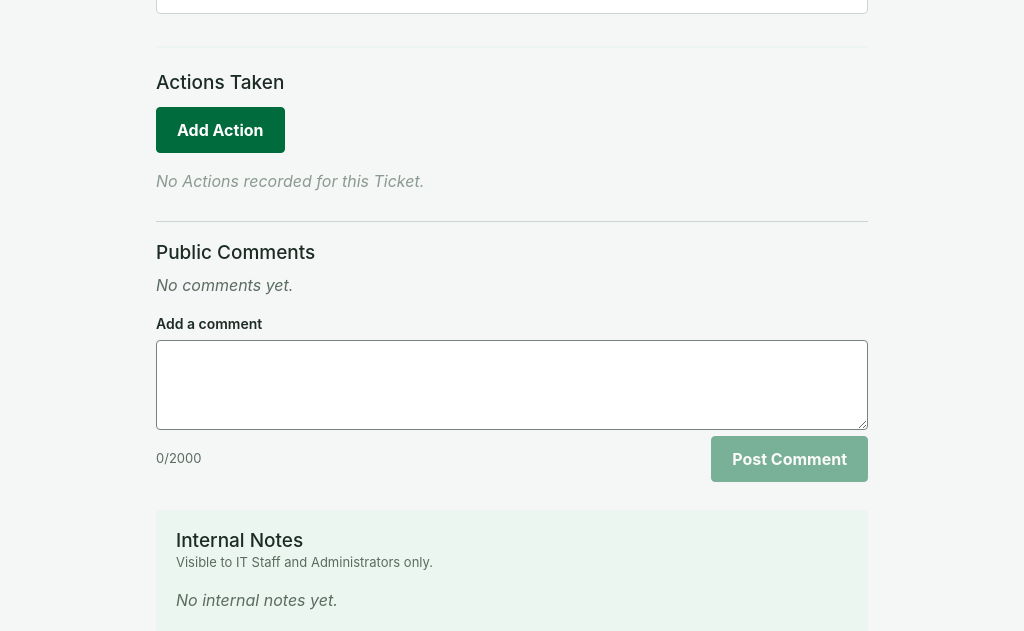
Test: UI-STAFF-01 — Staff Ticket Detail (AC-11–14) › keeps a newer note when an older comment refresh resolves last
(page scrolled)
Type "Saved comment." into the text box labelled "Add a comment". click: (512, 385)
box: [156, 340, 868, 430]
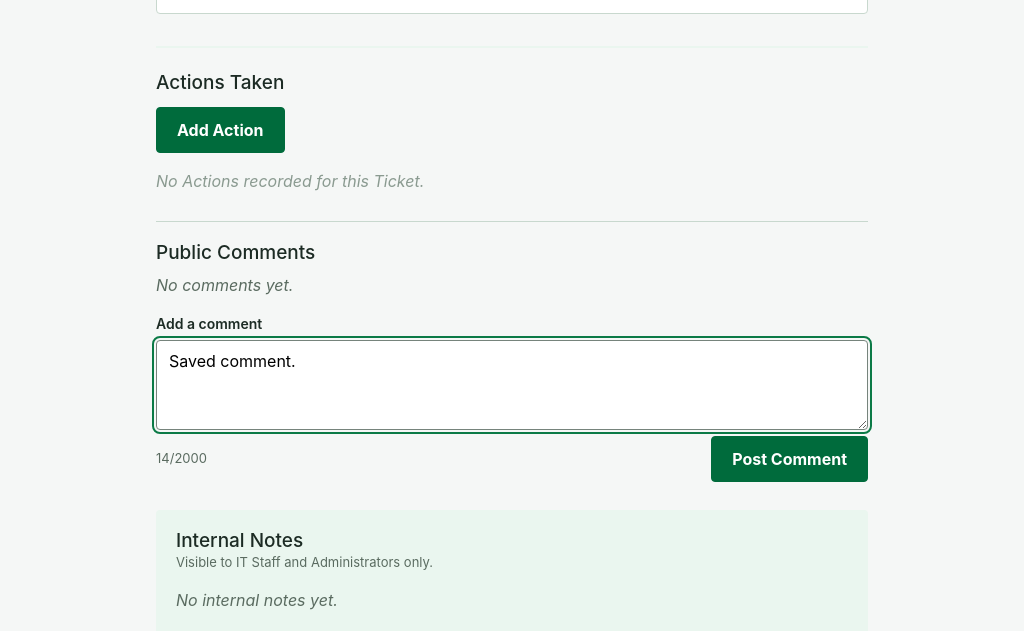
Click the button "Post Comment". click: (790, 459)
box: [711, 436, 868, 482]
(page scrolled)
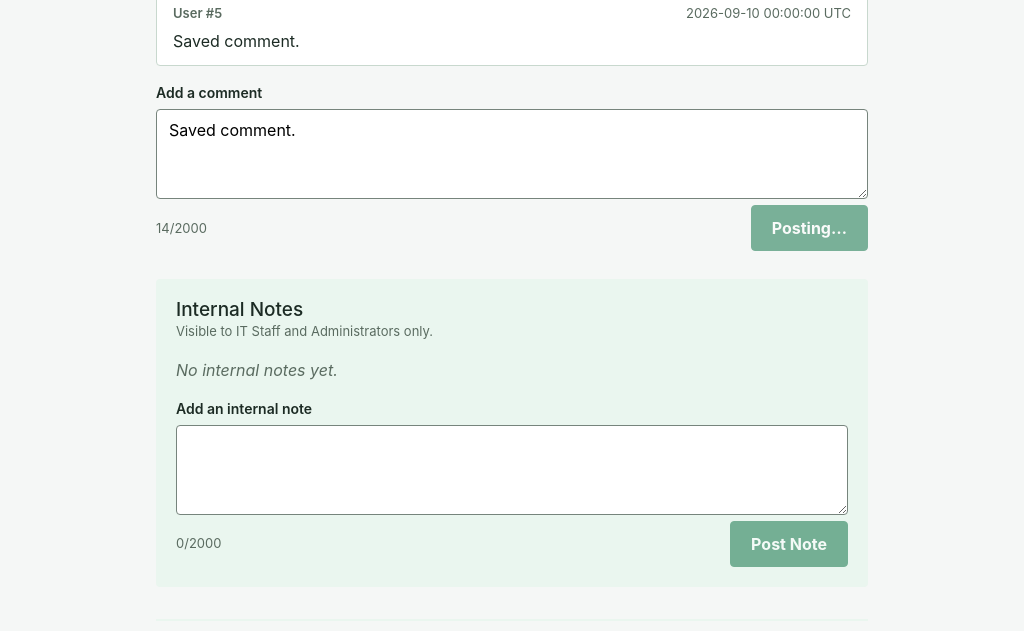
Type "Saved note." into the text box labelled "Add an internal note". click: (512, 470)
box: [176, 425, 848, 515]
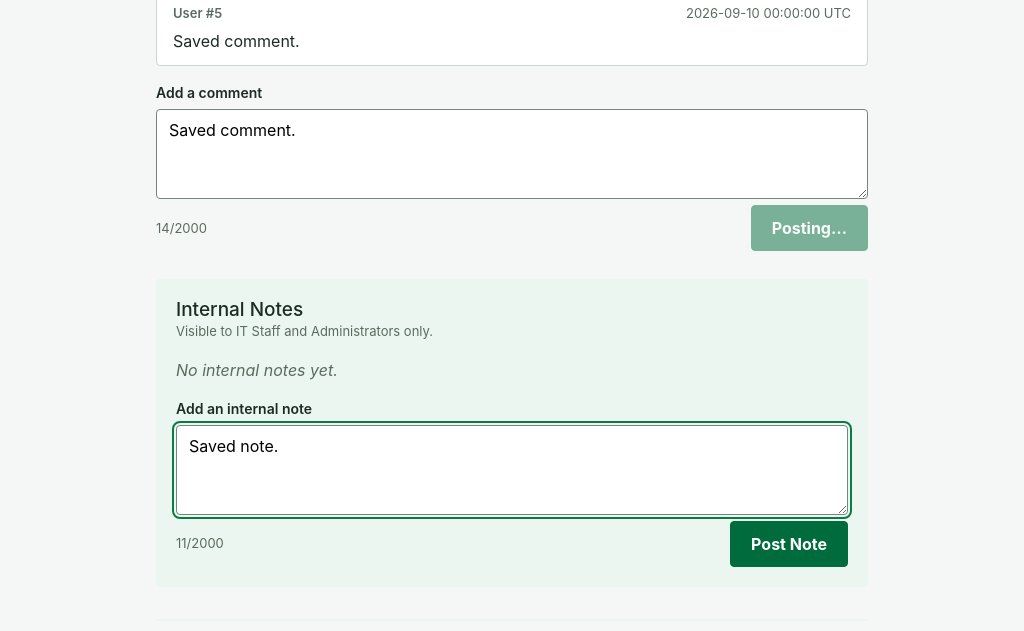
Click the button "Post Note". click: (789, 544)
box: [730, 521, 848, 567]
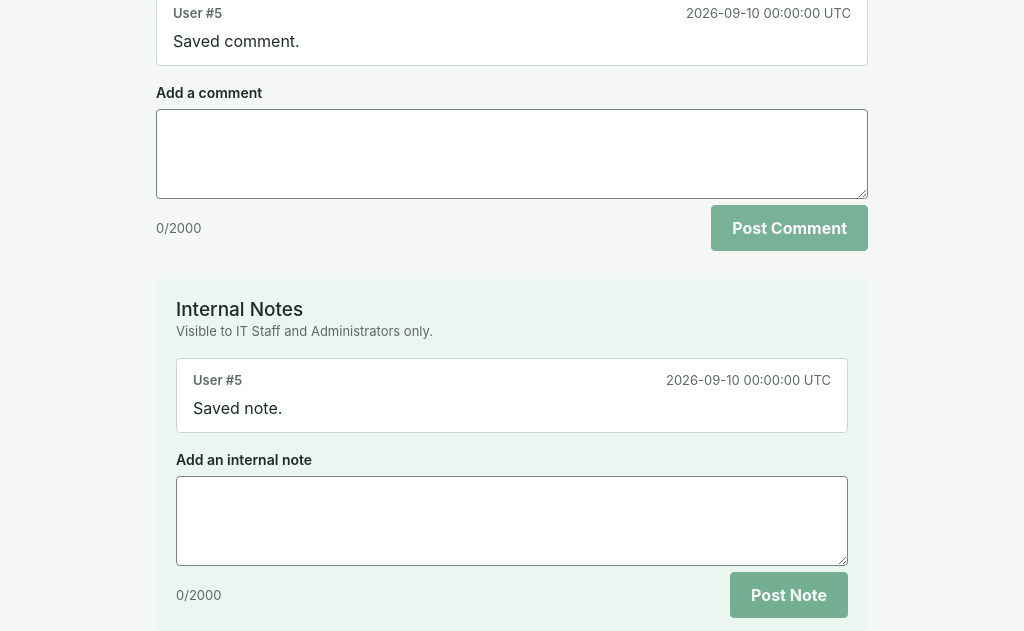
Result: the text "Saved note." is shown at [193, 398, 282, 418]
